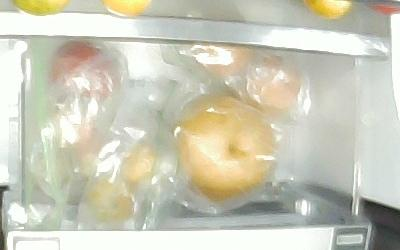peach_vinyl: (248, 54, 300, 107), (187, 46, 249, 76)
pear_vinyl: (170, 90, 276, 203)
tangerine_vinyl: (84, 176, 136, 222), (115, 141, 158, 186)
tomato_vinyl: (49, 40, 117, 101)
